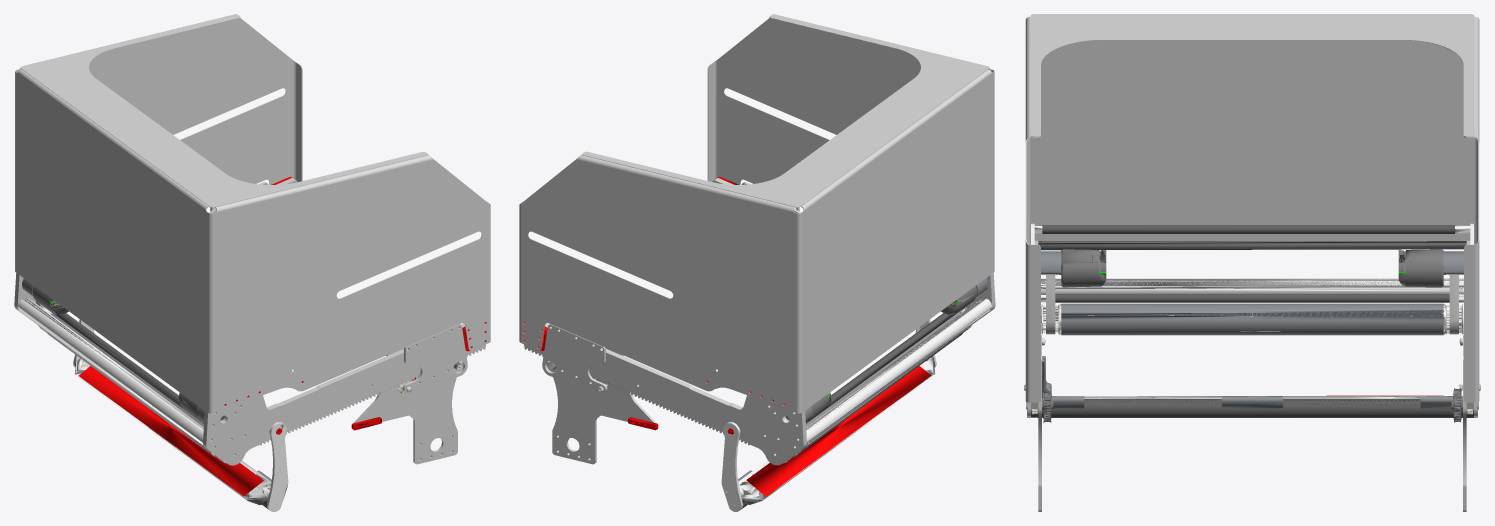
Rendered from simbot-tim-1114.glb.
3 views of the same model, side by side, from view 1: azimuth 30°, elevation 25°; view 2: azimuth 150°, elevation 25°; view 3: azimuth 270°, elevation 25° (orthographic). The views are drawn at different scales.
Parts seen in each view (by area): view 1: frame, intake; view 2: frame, intake; view 3: frame, intake.
Part boxes in pixels (x1,y1,x2,y2): frame: (14,14,490,465); intake: (73,319,288,511); frame: (519,14,995,465); intake: (721,319,936,511); frame: (1024,14,1480,511); intake: (1027,395,1477,417).
Size of the model in its own units: 0.6286 by 0.6742 by 0.759.
